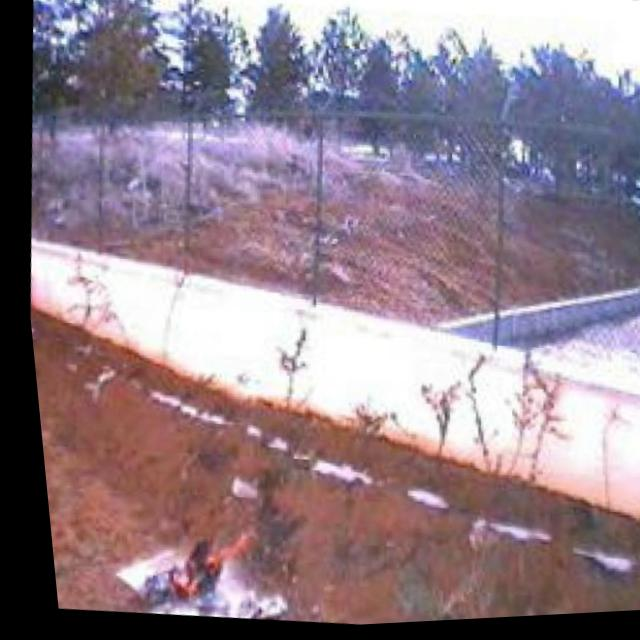Fire: (135, 510, 253, 608)
